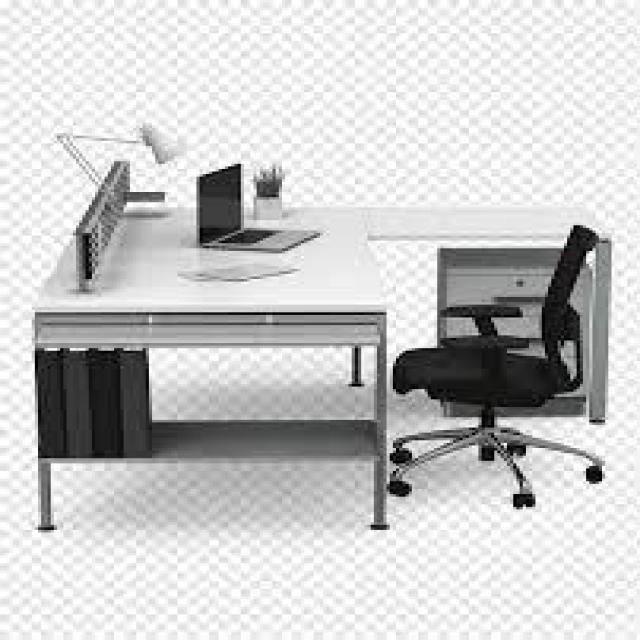chair: (359, 205, 640, 571)
